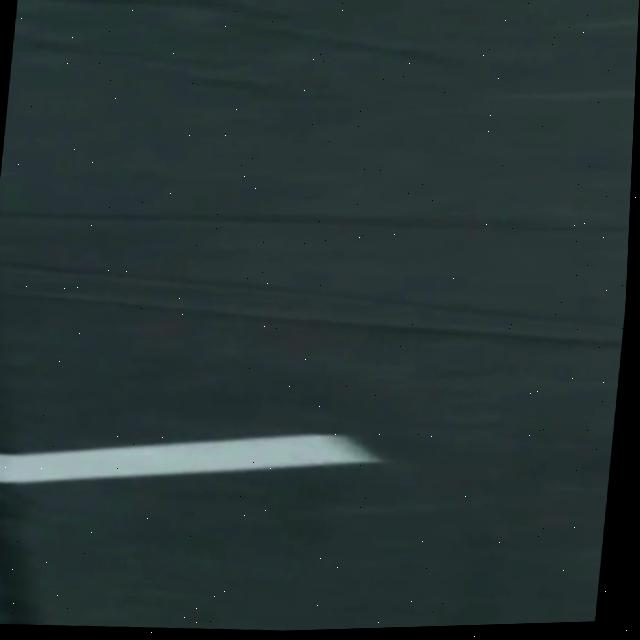center: (0, 434, 382, 482)
